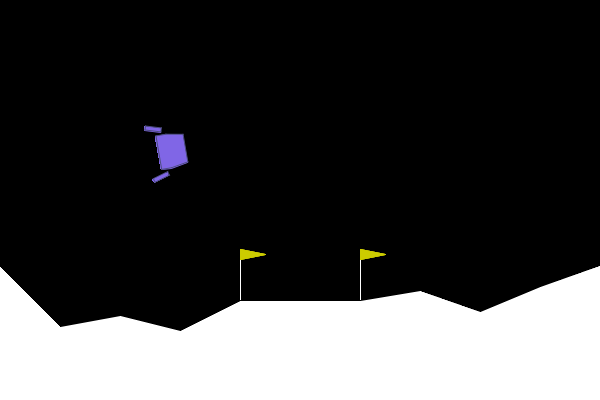lander: (143, 119, 192, 185)
